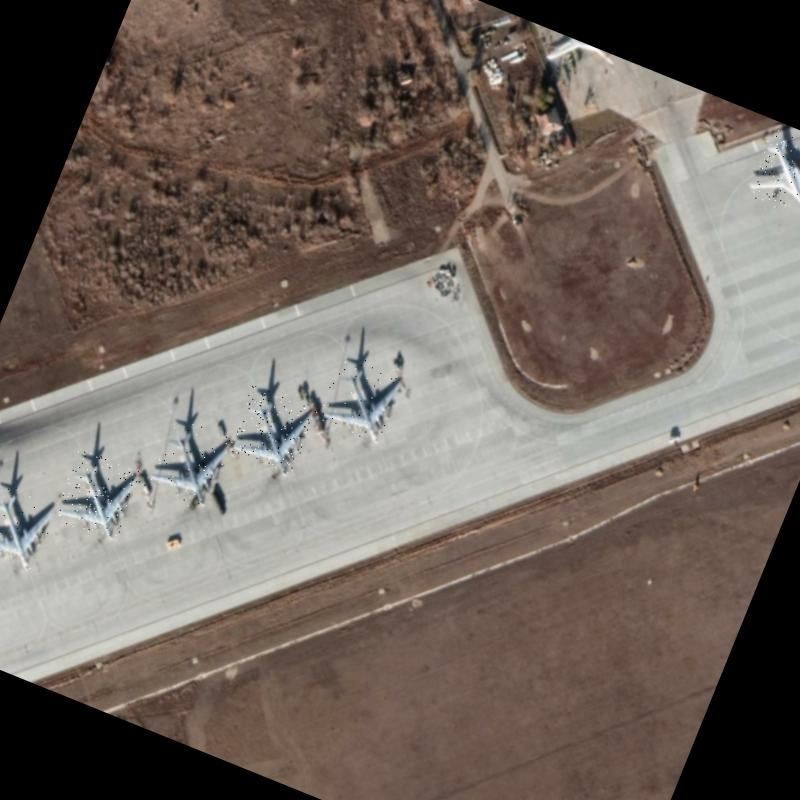A17: (140, 414, 237, 514), (314, 351, 408, 448), (50, 447, 142, 544), (226, 384, 317, 474), (0, 478, 59, 573)
A6: (741, 124, 800, 223)
